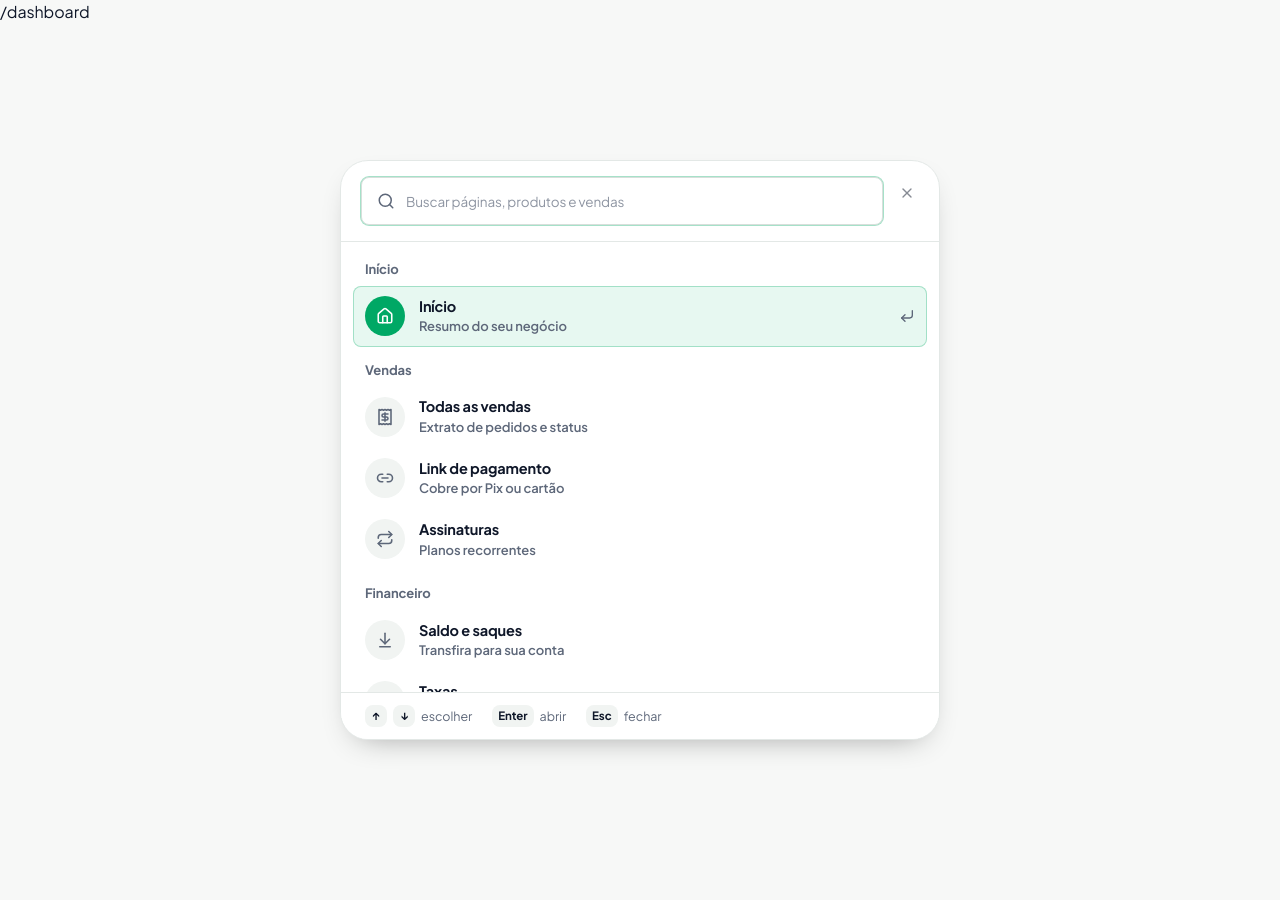
it: diálogo de busca › a seta para baixo no último resultado volta ao primeiro
Step 1. Type "venda" into the dropdown → (622, 201), box [361,177,883,225]
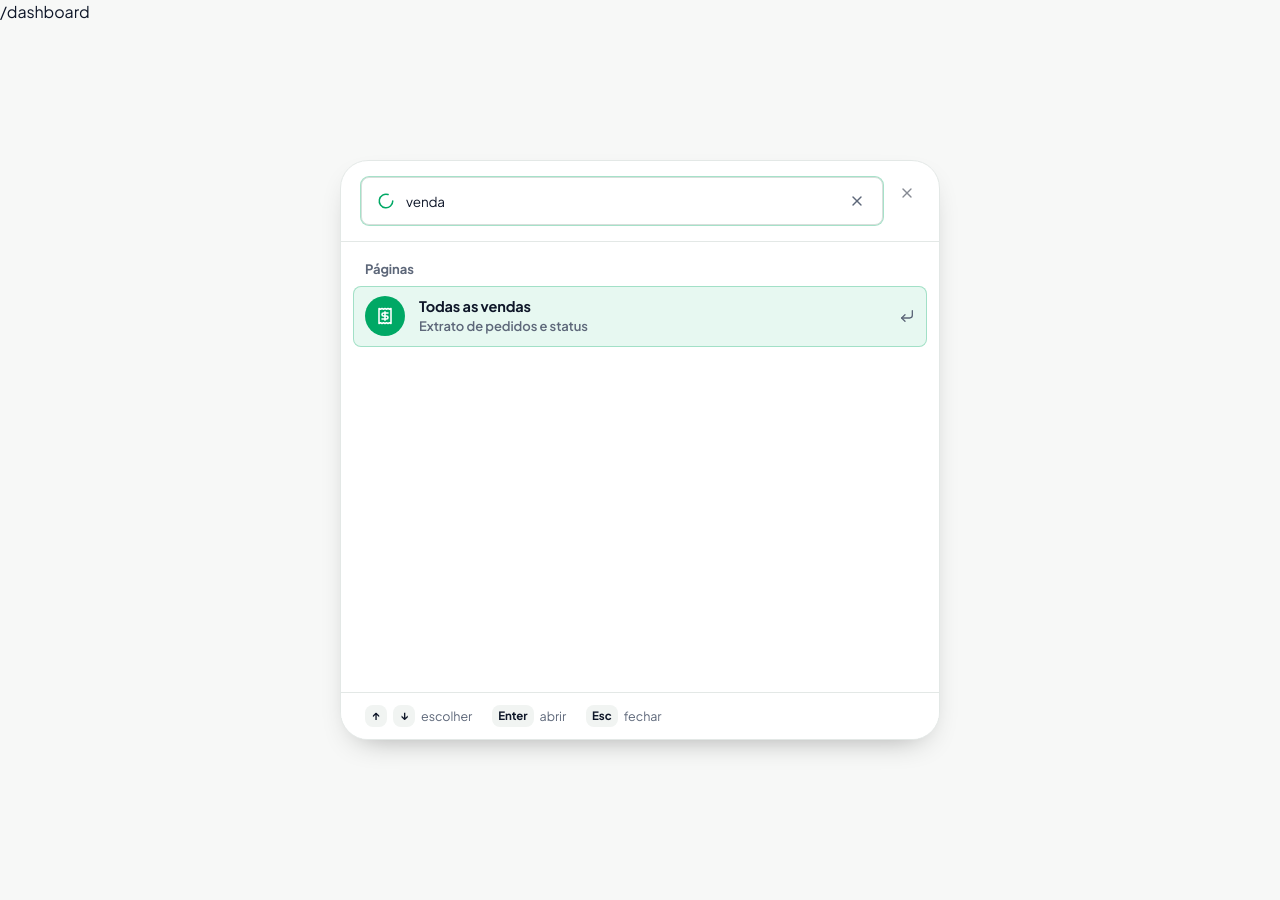
Step 2. Press ArrowDown in the dropdown, box [361,177,883,225]
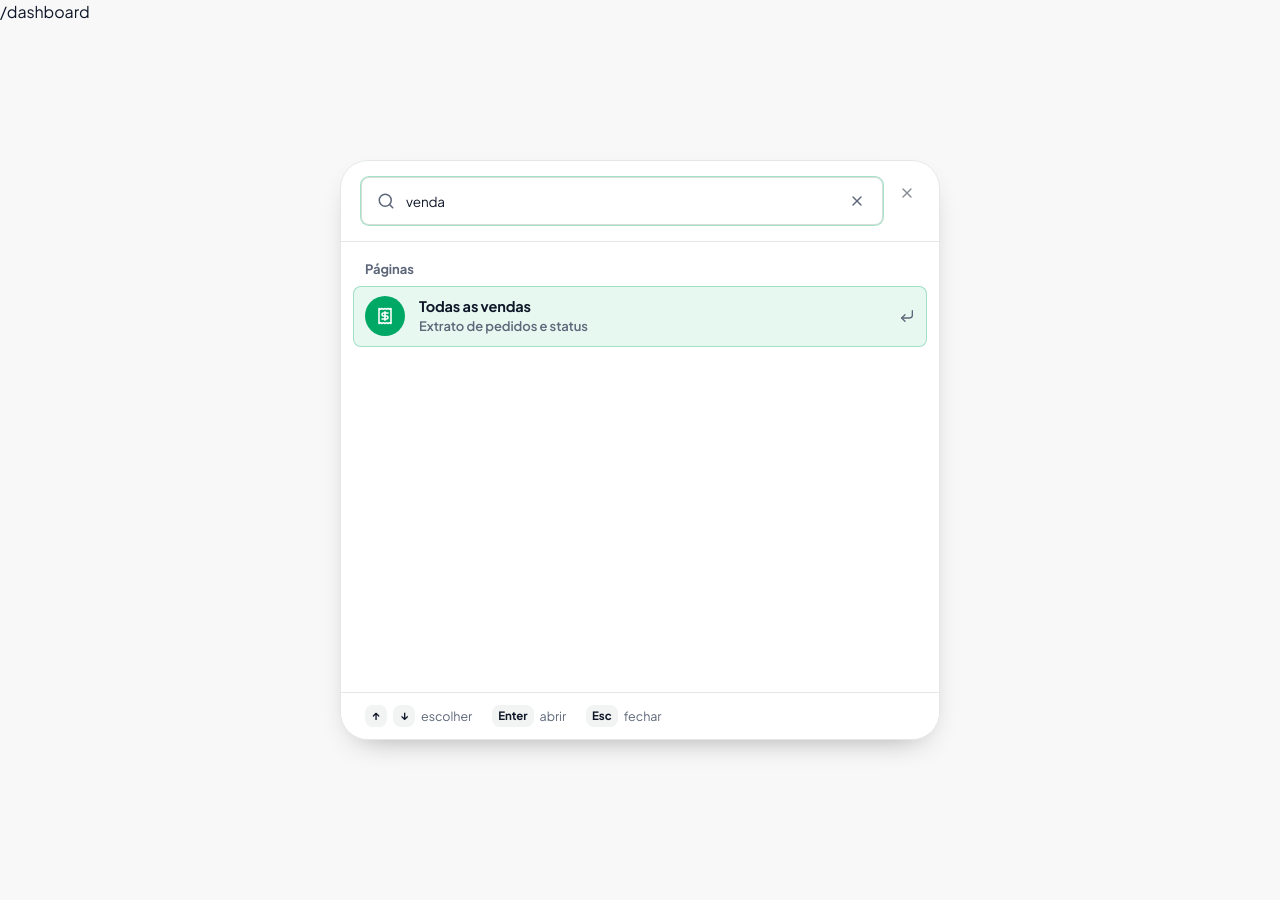
Now the option is selected, box [353,286,927,347]
